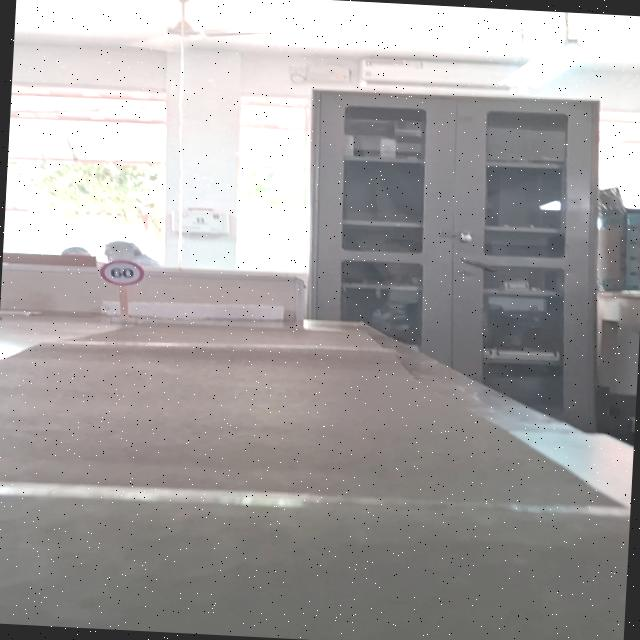Speed60: (97, 258, 145, 288)
